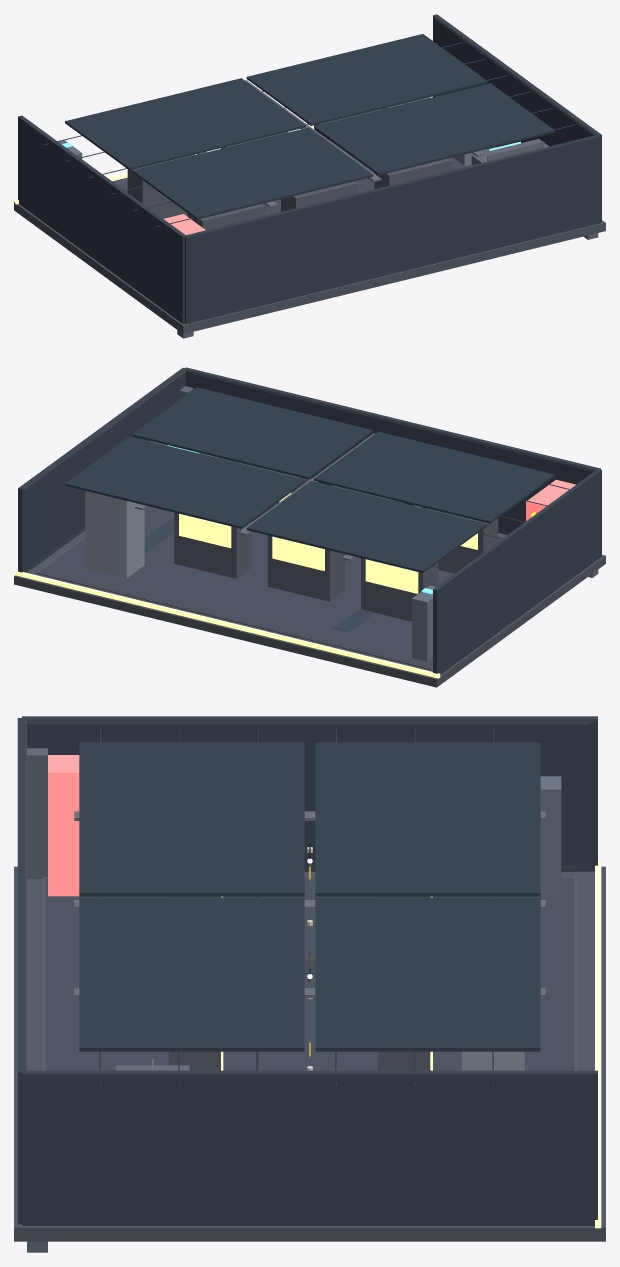
Rendered from floor-power-ops-core.glb.
The picture shows the model from 3 angles, top to bottom: view 1: azimuth 30°, elevation 25°; view 2: azimuth 150°, elevation 25°; view 3: azimuth 270°, elevation 25°; orthographic projection. The views are drawn at different scales.
Visible parts, largest first — view 1: WallBack_energy, WallL_energy, Coffer_-1_-1_energy, Coffer_-1_1_energy, Coffer_1_1_energy, Coffer_1_-1_energy, Slab_energy, WallR_energy, Battery_1_0, Battery_0_1, Battery_0_2, Battery_0_0 (+2 smaller); view 2: ESDFloor, WallL_energy, Coffer_-1_-1_energy, Coffer_1_-1_energy, Coffer_-1_1_energy, Coffer_1_1_energy, WallR_energy, WallBack_energy, Slab_energy, CoolingUnit, Battery_1_1, Battery_1_2 (+14 smaller); view 3: WallR_energy, Coffer_-1_-1_energy, Coffer_-1_1_energy, Coffer_1_-1_energy, Coffer_1_1_energy, WallL_energy, ESDFloor, Slab_energy, HVPanel, WallBack_energy, Post_energy_-1, LVPanel (+8 smaller).
Part boxes in pixels (left/top/right/bottom): WallBack_energy: left=184, top=134, right=600, bottom=324; WallL_energy: left=18, top=115, right=185, bottom=323; Coffer_-1_-1_energy: left=132, top=127, right=373, bottom=219; Coffer_-1_1_energy: left=65, top=78, right=305, bottom=170; Coffer_1_1_energy: left=246, top=34, right=487, bottom=125; Coffer_1_-1_energy: left=314, top=83, right=554, bottom=175; Slab_energy: left=14, top=177, right=605, bottom=334; WallR_energy: left=433, top=14, right=601, bottom=221; Battery_1_0: left=127, top=154, right=194, bottom=218; Battery_0_1: left=281, top=181, right=358, bottom=211; Battery_0_2: left=374, top=158, right=451, bottom=188; Battery_0_0: left=187, top=204, right=264, bottom=230; ESDFloor: left=38, top=506, right=502, bottom=667; WallL_energy: left=433, top=469, right=601, bottom=674; Coffer_-1_-1_energy: left=314, top=431, right=554, bottom=523; Coffer_1_-1_energy: left=132, top=387, right=373, bottom=479; Coffer_-1_1_energy: left=246, top=481, right=487, bottom=572; Coffer_1_1_energy: left=65, top=436, right=305, bottom=528; WallR_energy: left=18, top=368, right=185, bottom=572; WallBack_energy: left=184, top=367, right=600, bottom=532; Slab_energy: left=14, top=530, right=605, bottom=687; CoolingUnit: left=85, top=491, right=144, bottom=578; Battery_1_1: left=267, top=535, right=344, bottom=601; Battery_1_2: left=174, top=512, right=251, bottom=578; WallR_energy: left=22, top=1070, right=597, bottom=1225; Coffer_-1_-1_energy: left=79, top=742, right=304, bottom=896; Coffer_-1_1_energy: left=315, top=742, right=540, bottom=896; Coffer_1_-1_energy: left=79, top=897, right=304, bottom=1051; Coffer_1_1_energy: left=315, top=897, right=540, bottom=1051; WallL_energy: left=22, top=716, right=597, bottom=871; ESDFloor: left=45, top=877, right=574, bottom=1070; Slab_energy: left=14, top=866, right=605, bottom=1241; HVPanel: left=48, top=755, right=79, bottom=896; WallBack_energy: left=17, top=718, right=25, bottom=1224; Post_energy_-1: left=27, top=748, right=47, bottom=878; LVPanel: left=540, top=776, right=561, bottom=893.
Size of the model in its own units: 16.5 by 3.8 by 11.3.
